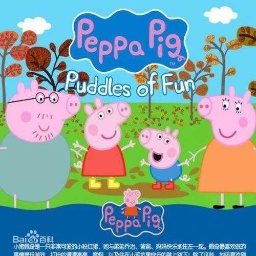Peppa: (74, 97, 137, 191)
